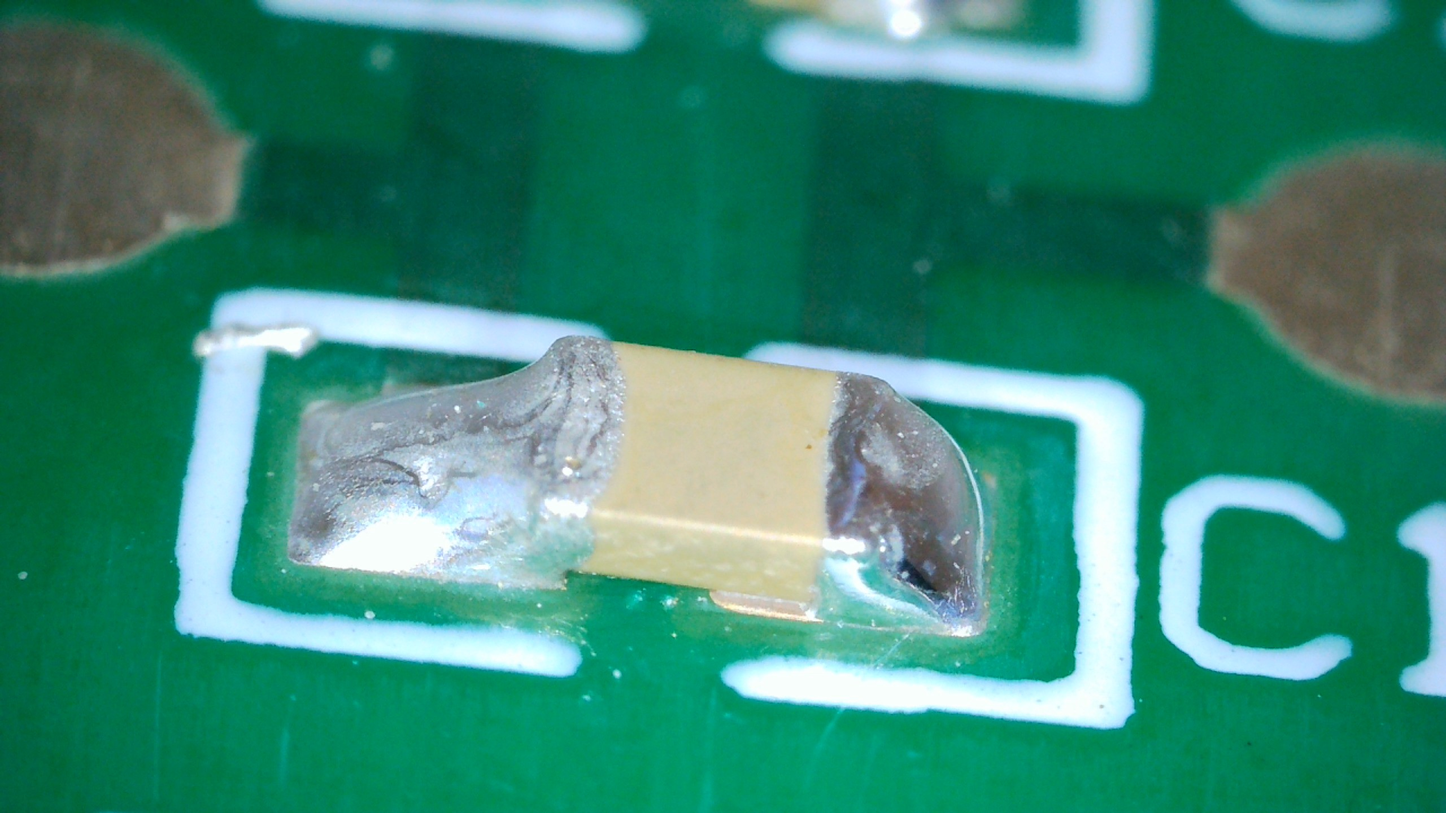NG: (824, 373, 983, 635)
OK: (288, 339, 616, 588)
